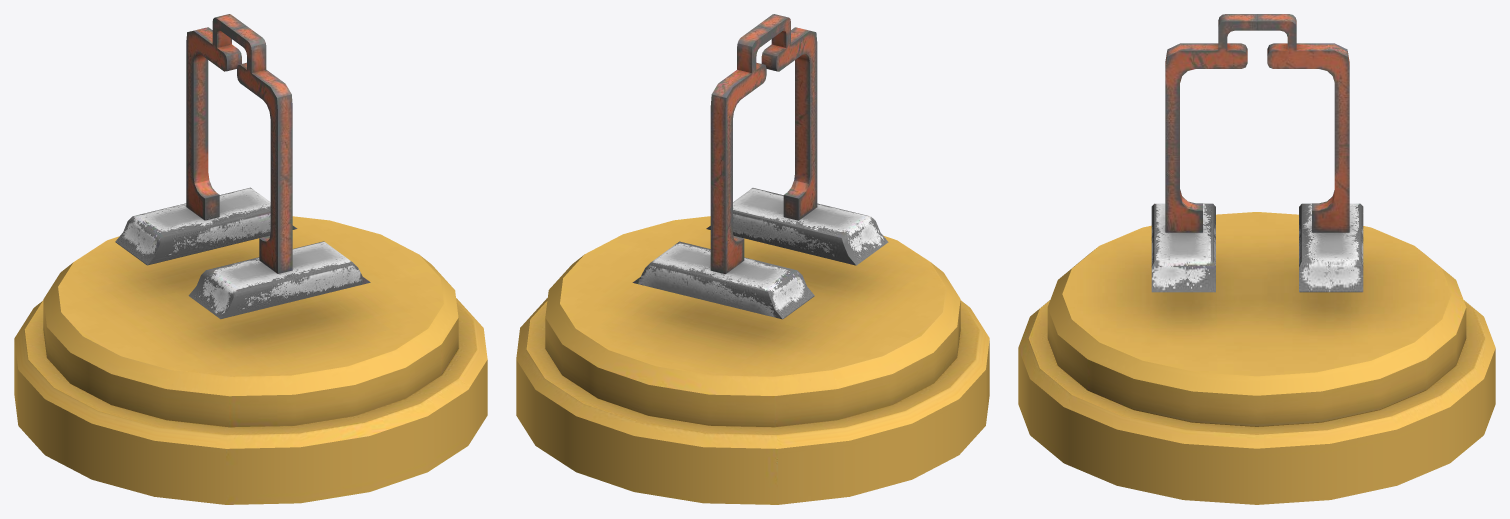
The model's file is TPOURO.fbx.
The picture shows the model from 3 angles, left to right: view 1: azimuth 30°, elevation 25°; view 2: azimuth 150°, elevation 25°; view 3: azimuth 270°, elevation 25°; orthographic projection.
Parts seen in each view (by area): view 1: polySurface77, polySurface74; view 2: polySurface77, polySurface74; view 3: polySurface77, polySurface74.
Part boxes in pixels (x1=…): polySurface77: x1=14, y1=216, x2=487, y2=504; polySurface74: x1=115, y1=14, x2=370, y2=319; polySurface77: x1=516, y1=216, x2=989, y2=504; polySurface74: x1=632, y1=14, x2=888, y2=319; polySurface77: x1=1018, y1=212, x2=1495, y2=504; polySurface74: x1=1151, y1=14, x2=1363, y2=292.
Bounding box in the file's own units: 0.4773 × 0.4202 × 0.4773.
Materials: 1 (1 with a texture image).
